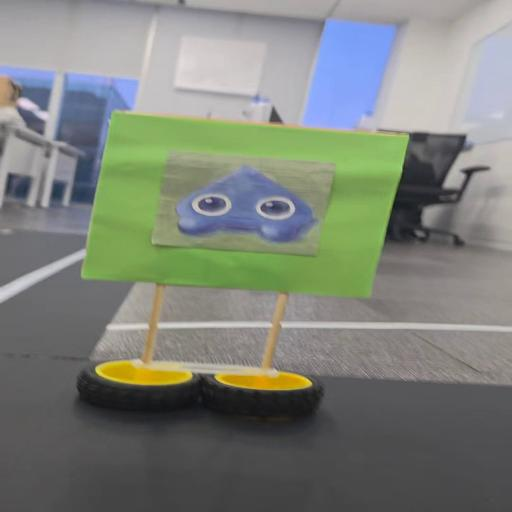Sign_B: (86, 112, 388, 410)
